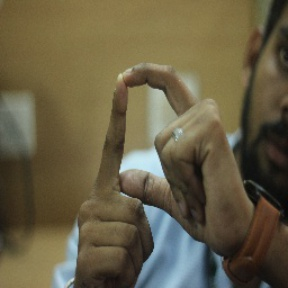D: (84, 61, 236, 241)
